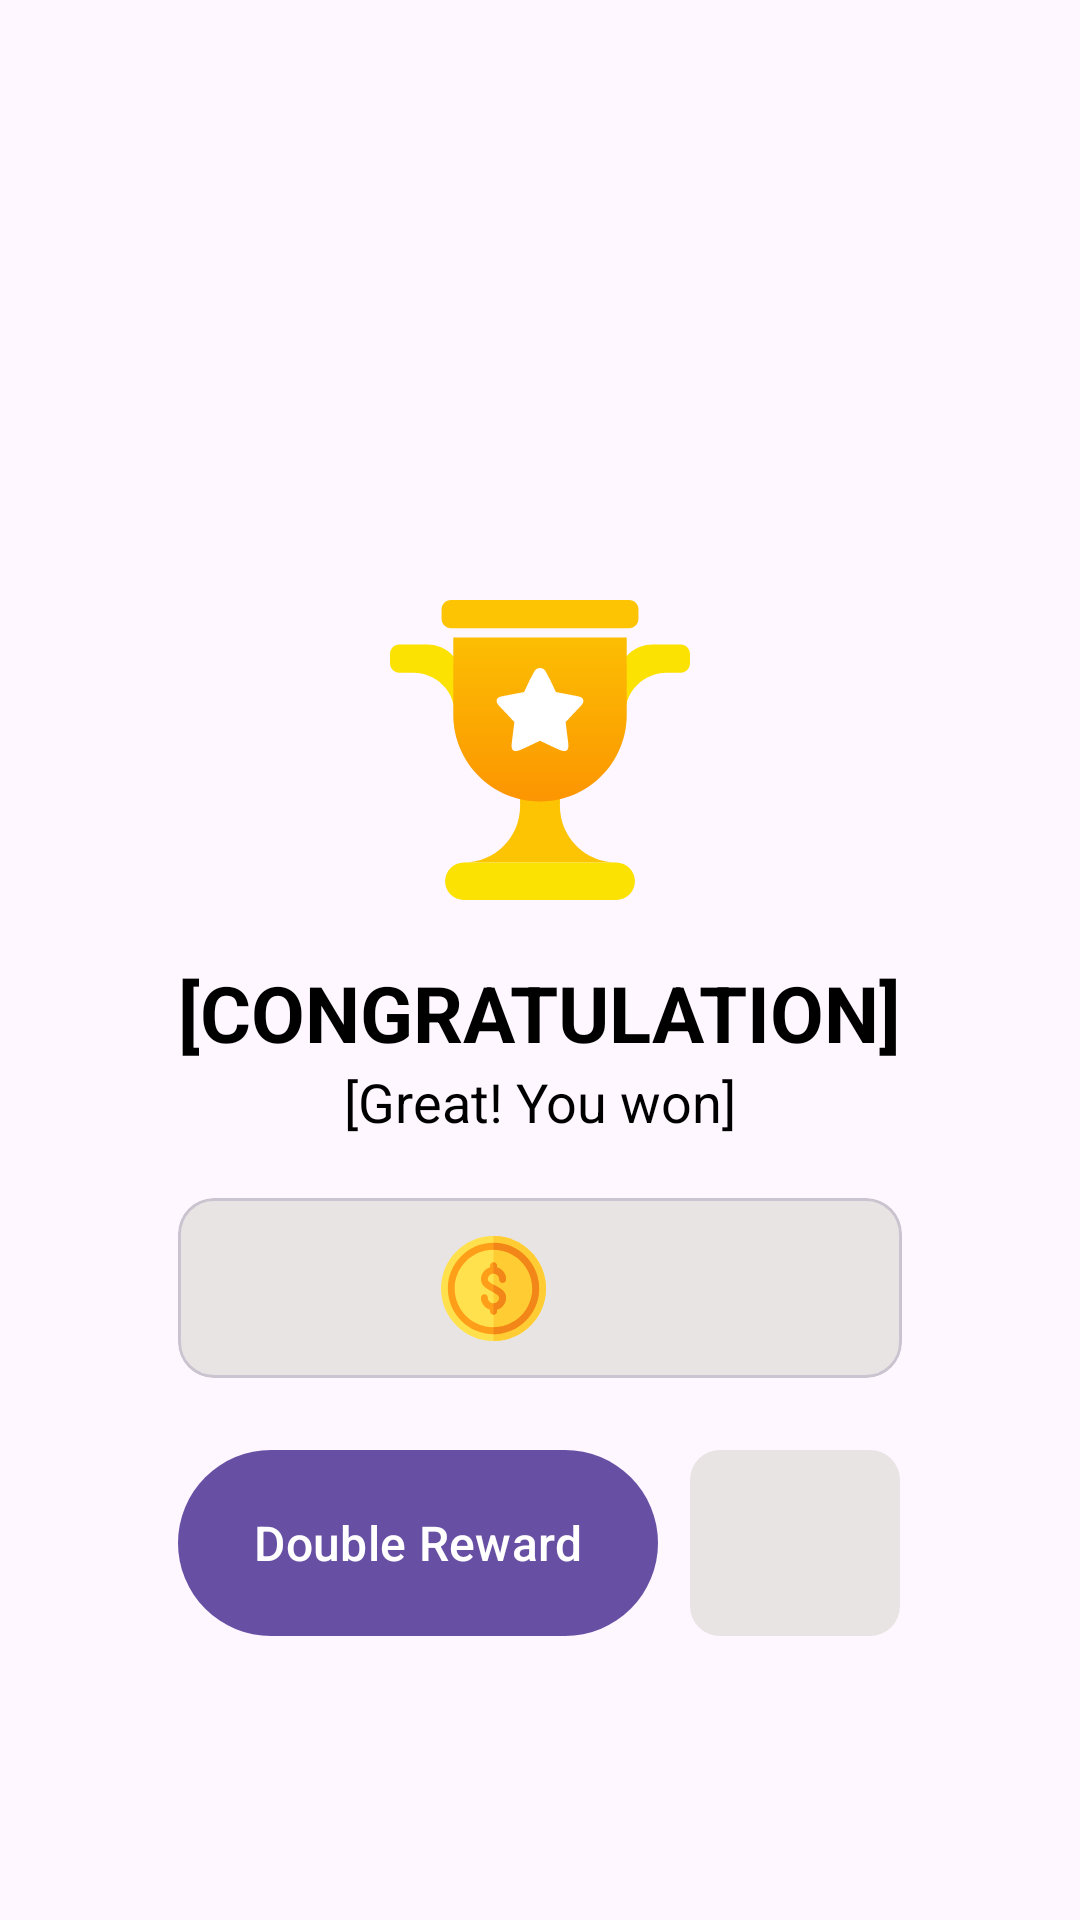

Screen size 1080 x 1920. Icon name, then its box in pixels as bbox=[x1, y1, x2, y2]:
coin: bbox=[441, 1236, 546, 1341]
cup: bbox=[390, 600, 690, 900]
